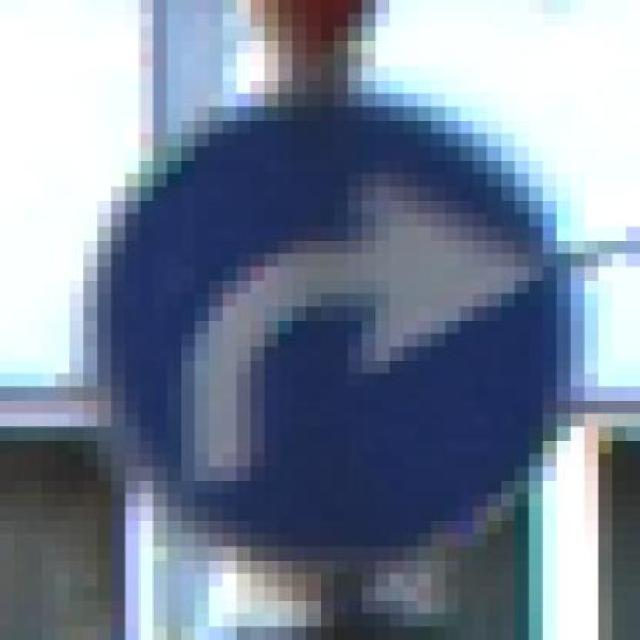Turn right ahead: (53, 89, 596, 569)
